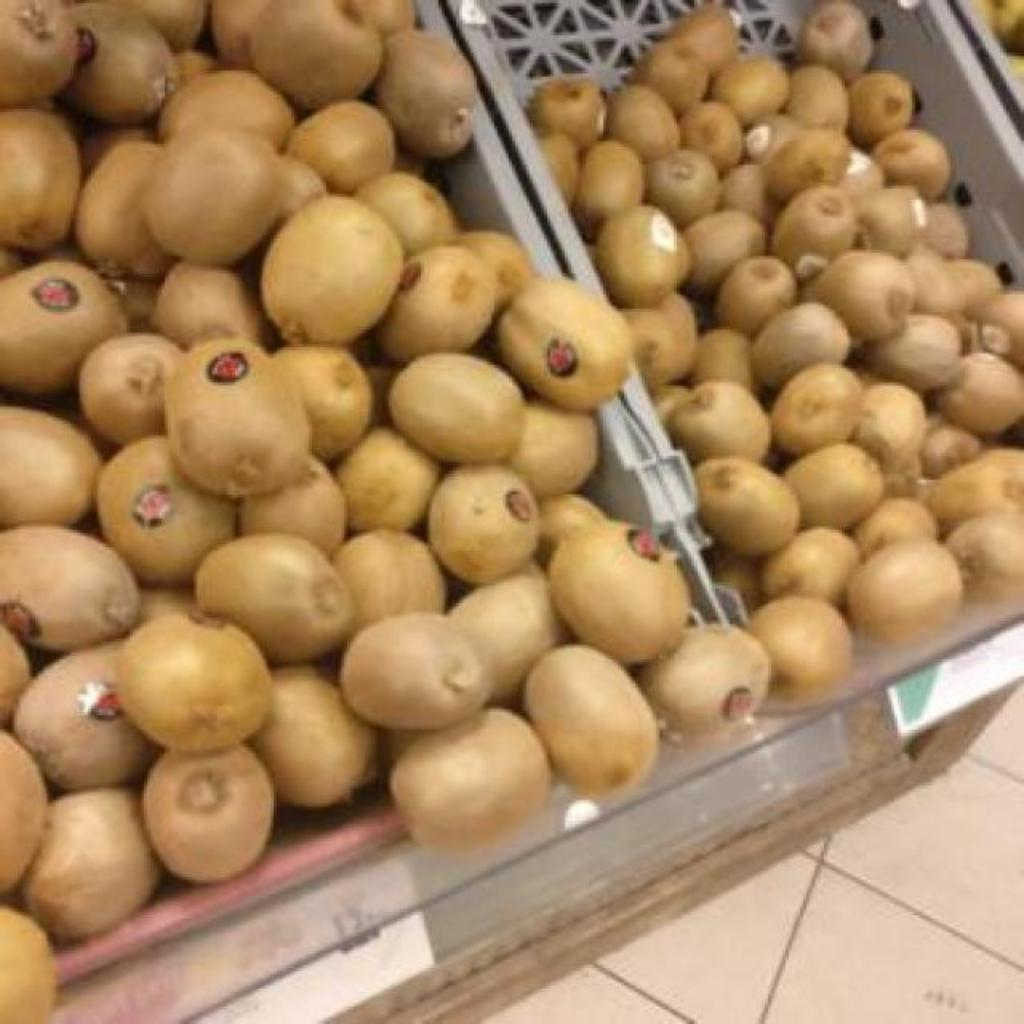kiwi: (166, 340, 312, 497), (390, 708, 550, 851), (260, 194, 404, 344), (118, 614, 272, 753), (96, 436, 236, 585), (14, 642, 154, 789), (196, 534, 354, 663), (22, 790, 158, 939), (524, 646, 658, 795), (550, 522, 688, 663), (142, 130, 282, 265), (340, 612, 490, 729), (142, 744, 270, 881), (252, 668, 376, 807), (498, 280, 630, 409), (0, 260, 128, 393), (0, 526, 136, 651), (448, 566, 566, 705), (252, 0, 382, 109), (390, 354, 518, 463), (378, 244, 496, 361), (638, 626, 768, 731), (74, 142, 172, 279), (428, 466, 538, 583), (64, 4, 168, 124), (0, 406, 102, 525), (378, 32, 474, 157), (78, 334, 182, 445), (848, 542, 962, 643), (274, 346, 370, 461), (0, 110, 78, 251), (336, 426, 440, 531), (158, 70, 294, 149), (336, 530, 446, 627), (748, 596, 852, 697), (286, 100, 396, 193), (241, 458, 346, 555), (810, 250, 916, 341), (701, 458, 798, 557), (596, 206, 690, 307), (152, 262, 260, 347), (508, 400, 598, 498), (784, 444, 884, 529), (354, 172, 458, 253), (772, 364, 864, 455), (0, 0, 78, 107), (668, 380, 768, 462), (752, 304, 848, 389), (1, 730, 48, 893), (622, 292, 696, 391), (868, 314, 962, 391), (764, 530, 860, 605), (930, 450, 1024, 525), (940, 354, 1024, 435), (574, 142, 644, 239), (684, 210, 766, 289), (946, 517, 1024, 599), (772, 188, 856, 263), (718, 256, 796, 335), (766, 128, 850, 201), (456, 232, 534, 309), (646, 148, 720, 227), (856, 382, 920, 473), (606, 84, 680, 161), (872, 128, 950, 201), (528, 76, 604, 149), (800, 2, 872, 79), (632, 42, 710, 113), (712, 56, 790, 125), (536, 494, 608, 565), (854, 498, 936, 557), (848, 70, 914, 143), (664, 6, 738, 71), (680, 102, 742, 171), (860, 191, 926, 255), (906, 246, 966, 315), (128, 0, 207, 49), (786, 66, 844, 131), (694, 328, 754, 389), (947, 260, 1002, 319), (922, 424, 980, 477), (280, 156, 328, 219), (986, 292, 1024, 367), (746, 114, 802, 163), (541, 132, 578, 205), (720, 164, 764, 221), (922, 204, 964, 257), (840, 148, 884, 197), (362, 0, 414, 35)
